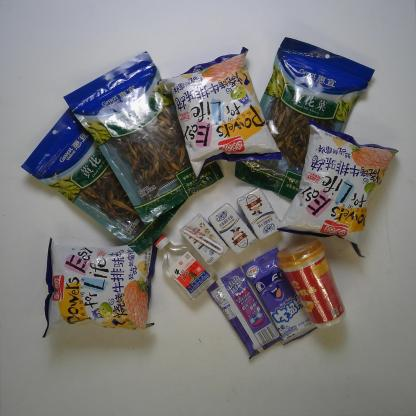Alcohol: (152, 233, 216, 301)
Candy: (204, 265, 285, 361), (241, 247, 319, 346)
Dried Food: (60, 48, 226, 228), (19, 105, 190, 256), (233, 35, 377, 201)
Instant Drink: (276, 235, 348, 329)
Milk: (179, 210, 231, 268), (206, 202, 258, 256), (236, 186, 282, 242)
Puffed Food: (275, 116, 400, 260), (155, 45, 283, 181), (39, 235, 159, 340)
